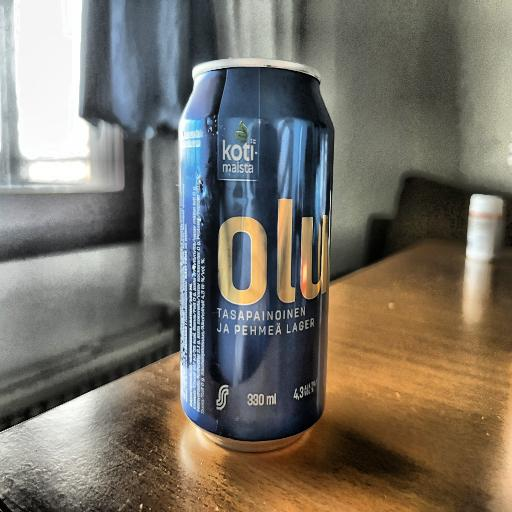koti: (180, 63, 336, 449)
